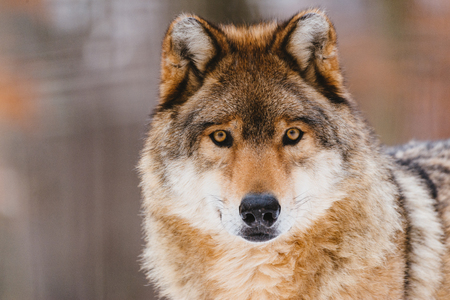Lobo: (125, 11, 426, 290)
